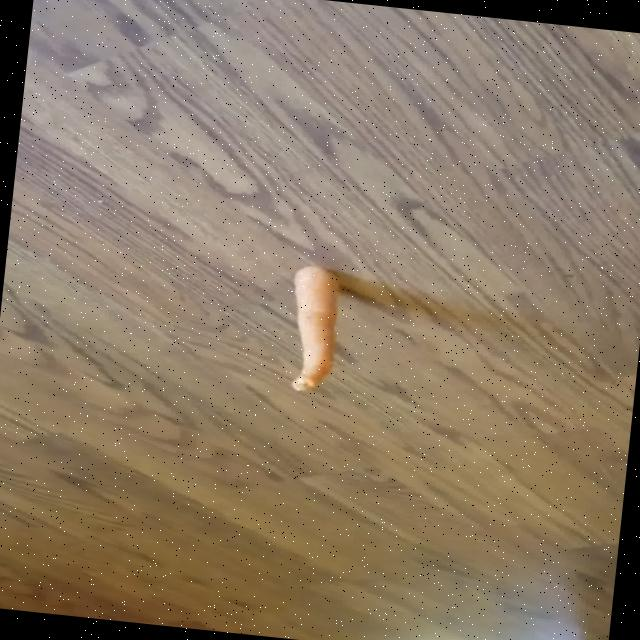carrot: (291, 265, 339, 390)
